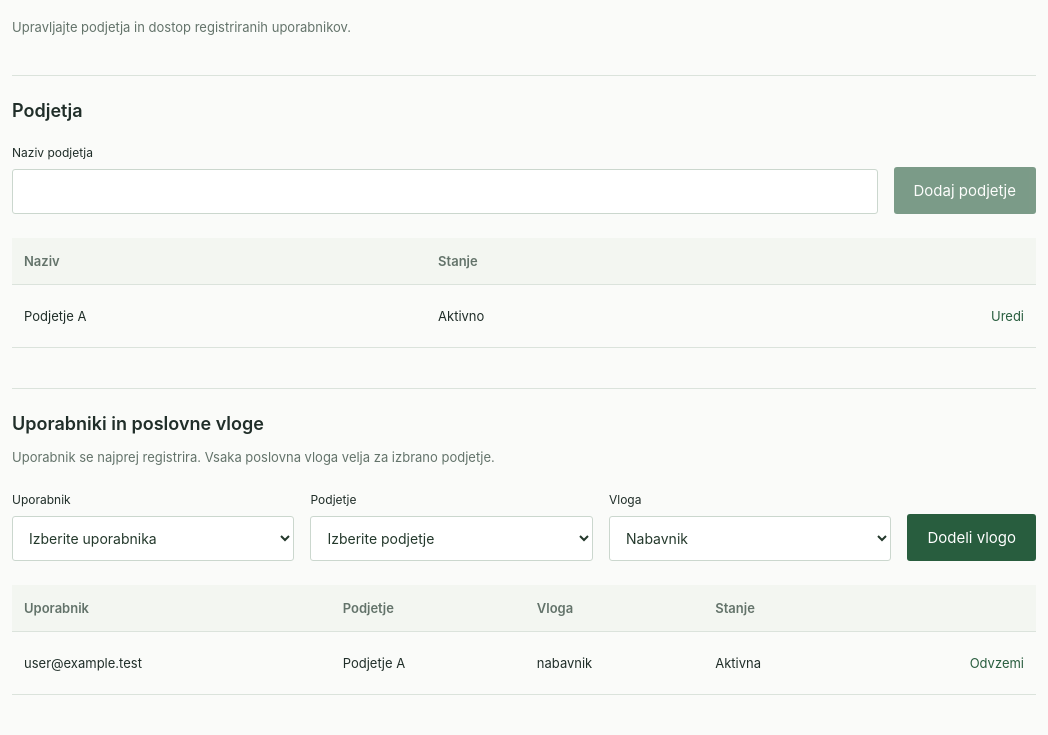
Test: US-02 administracija › odvzem vloge prikaže šele po uspešnem shranjevanju in osvežitvi podatkov
(page scrolled)
Click the button "Odvzemi" at [997, 663], box [970,647,1024,679]
(page scrolled)
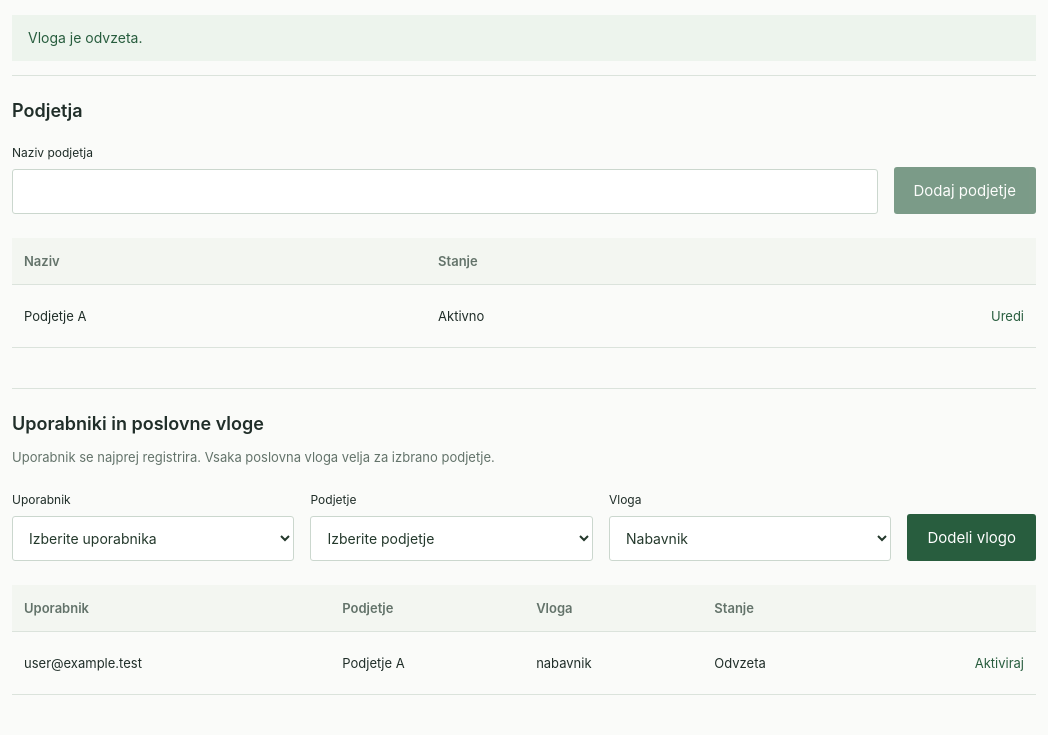
Result: the button "Aktiviraj" is shown at [975,647,1024,679]
